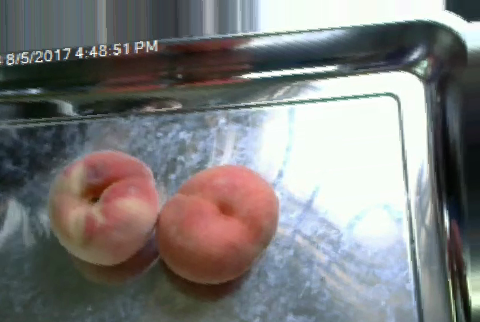Peach: (157, 164, 279, 283), (47, 148, 162, 265)
